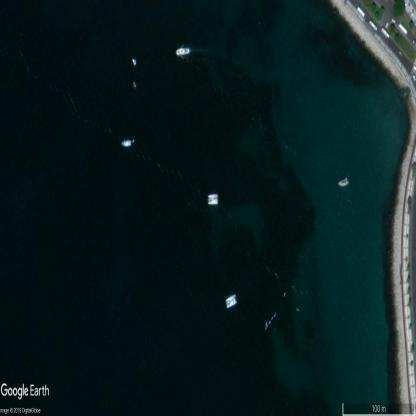ship: (226, 294, 237, 309), (208, 194, 218, 205), (176, 48, 190, 55), (338, 178, 349, 186), (121, 140, 131, 148), (132, 59, 136, 66), (133, 82, 136, 88), (265, 326, 267, 329)
